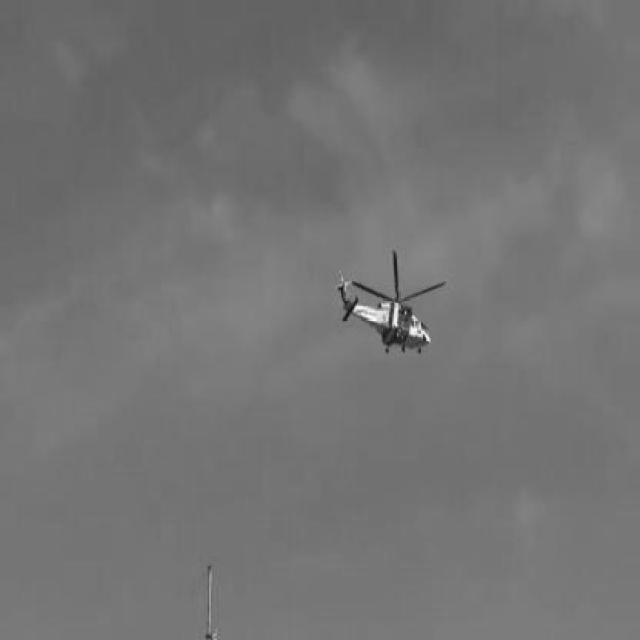helikopter: (336, 251, 446, 354)
